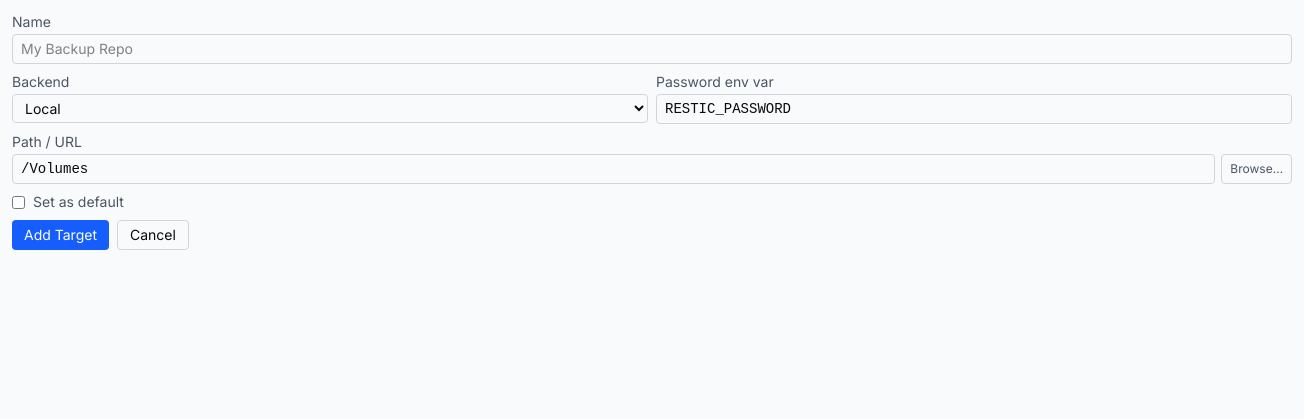
Test: StorageTargetForm › shows directory list when Browse is clicked
What coordinates should you click on to do the following:
click the button "Browse…"
I would click on:
 (1257, 169)
Its box is [1221,154,1292,184].
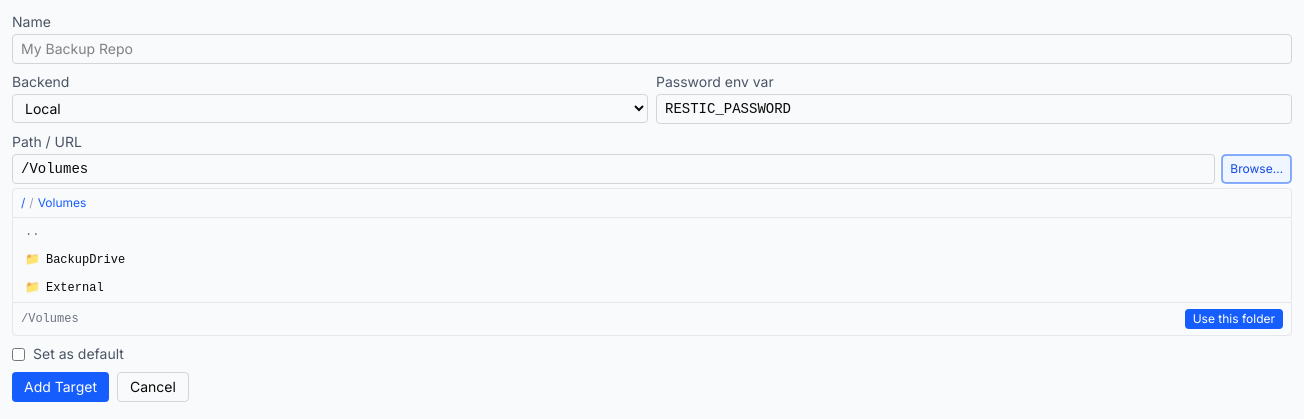
Expected: the button "📁 BackupDrive" is shown, [13,246,1291,274]
Expected: the button "📁 External" is shown, [13,274,1291,302]
